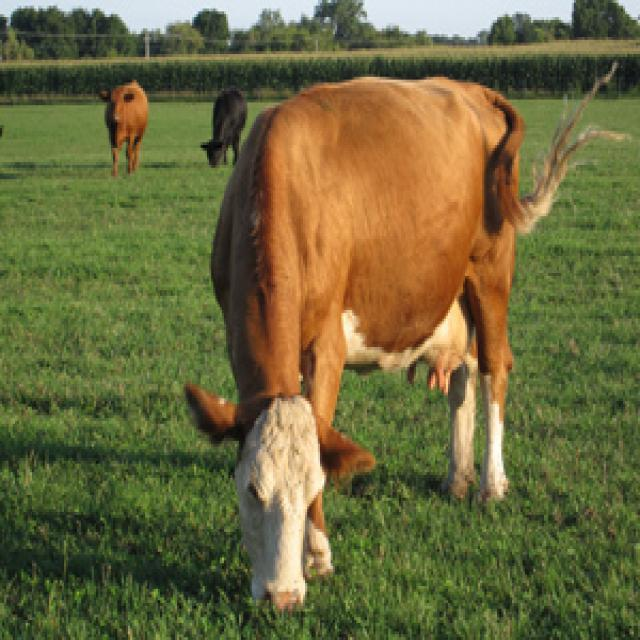cow: (182, 57, 630, 609), (94, 74, 147, 173), (197, 82, 246, 165)
